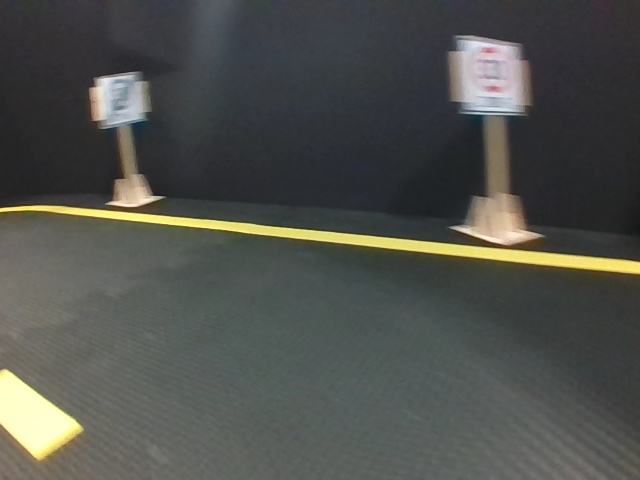30: (460, 35, 523, 115)
no30: (99, 74, 141, 123)
